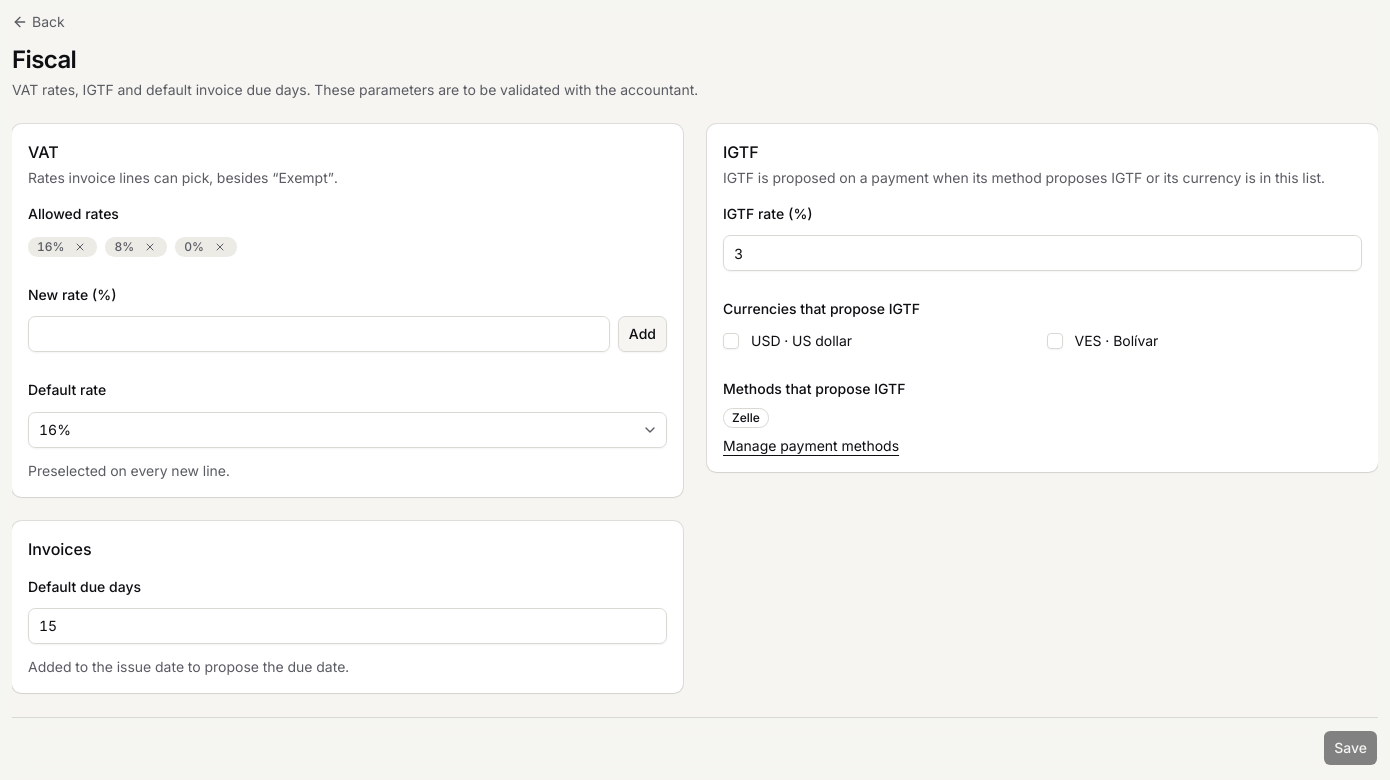
it: FiscalSettingsForm › blocks saving when the default rate is removed from the allowed rates
Click the button named "Remove 16%" at [80, 247], box x1=68 y1=235 x2=92 y2=259
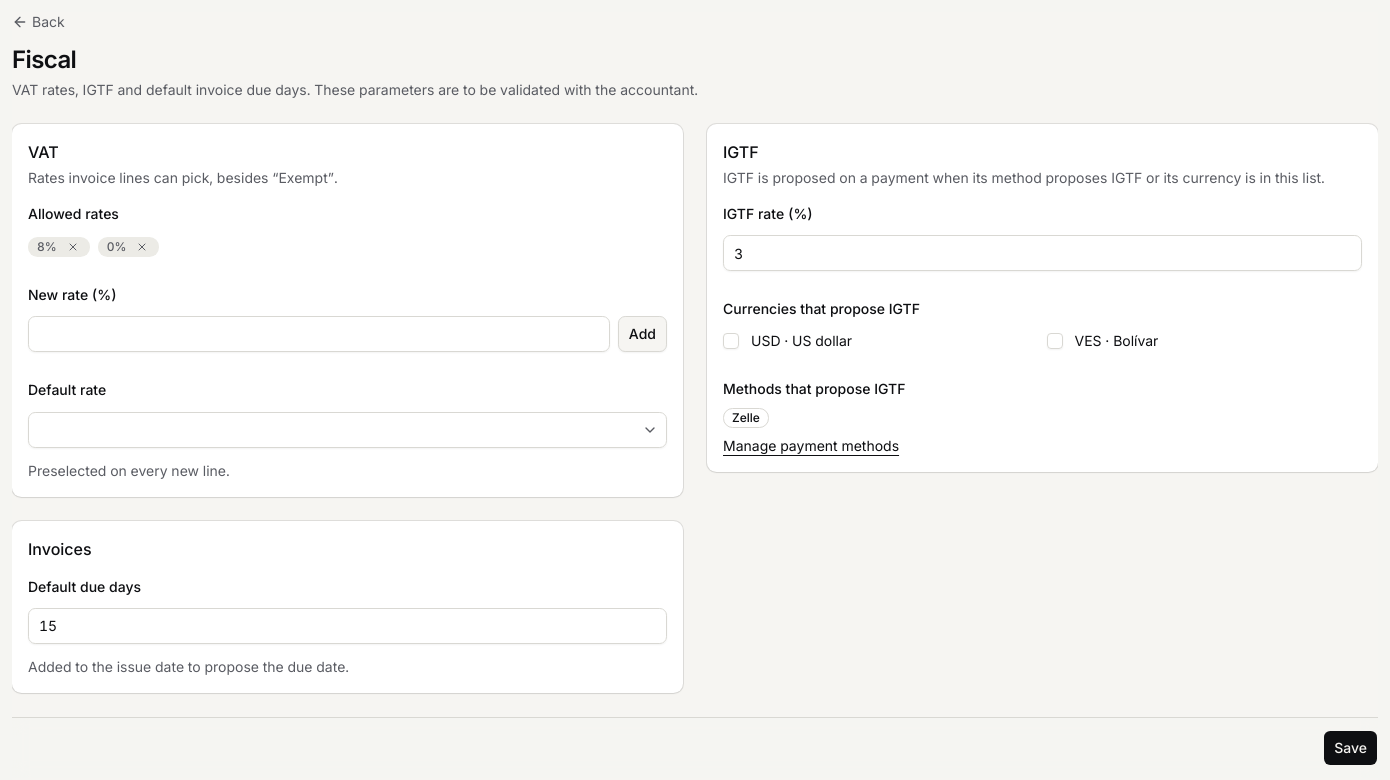
Click the button "Save" at [1351, 748], box x1=1323 y1=730 x2=1378 y2=766
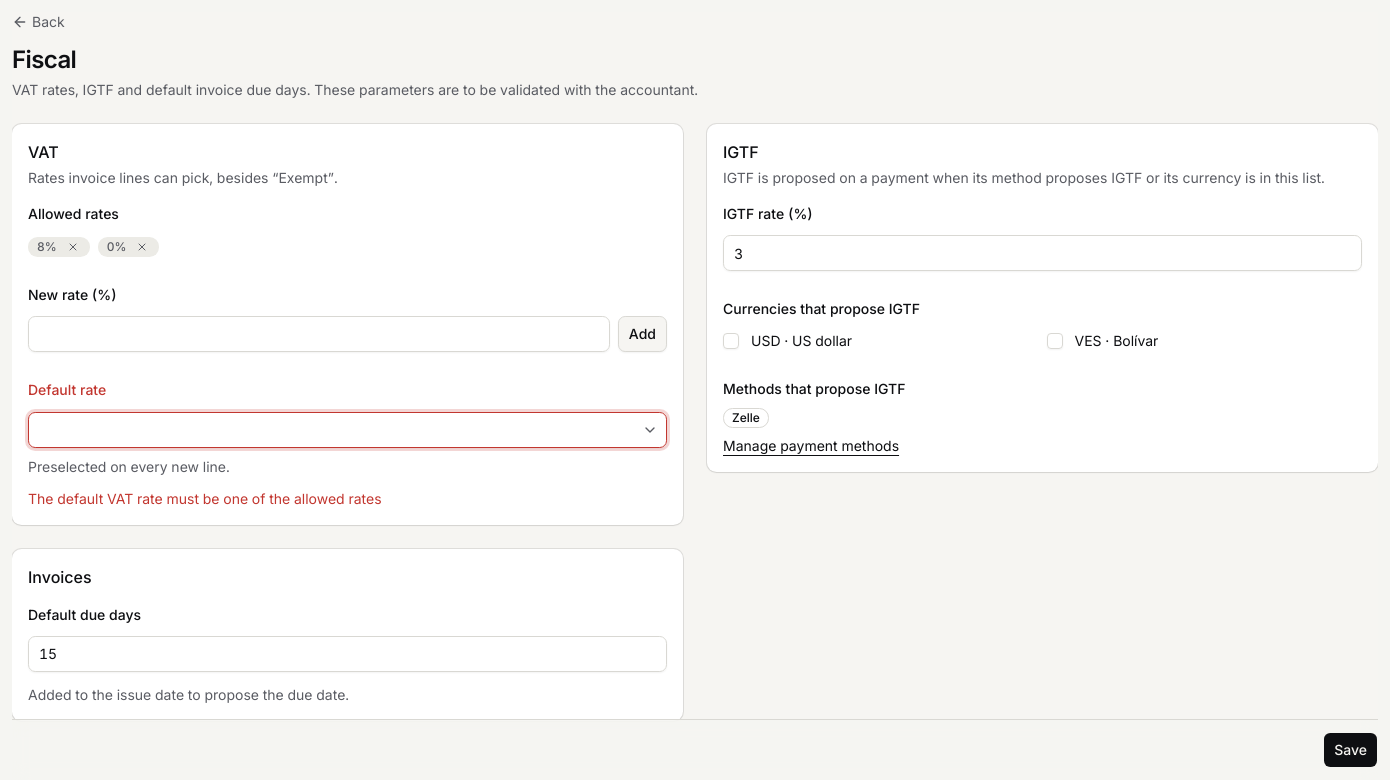
Now the text "The default VAT rate must be one of the allowed rates" is shown, box x1=28 y1=490 x2=382 y2=506
